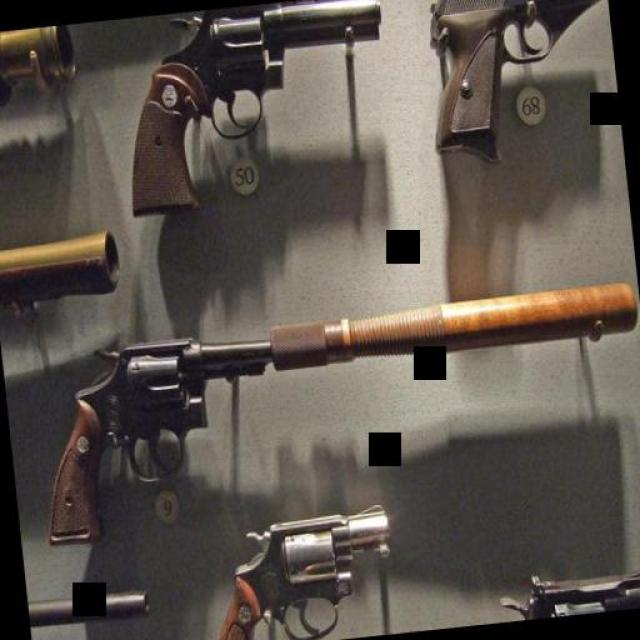gun: (21, 259, 640, 556)
